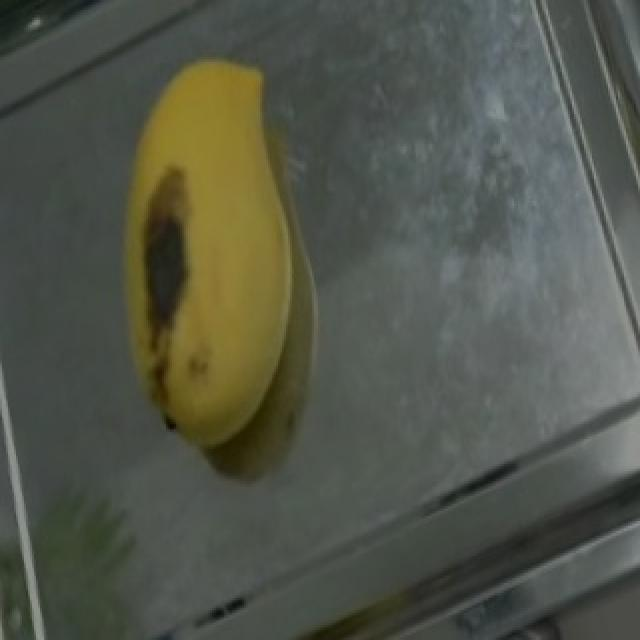fruit: (66, 12, 392, 404)
